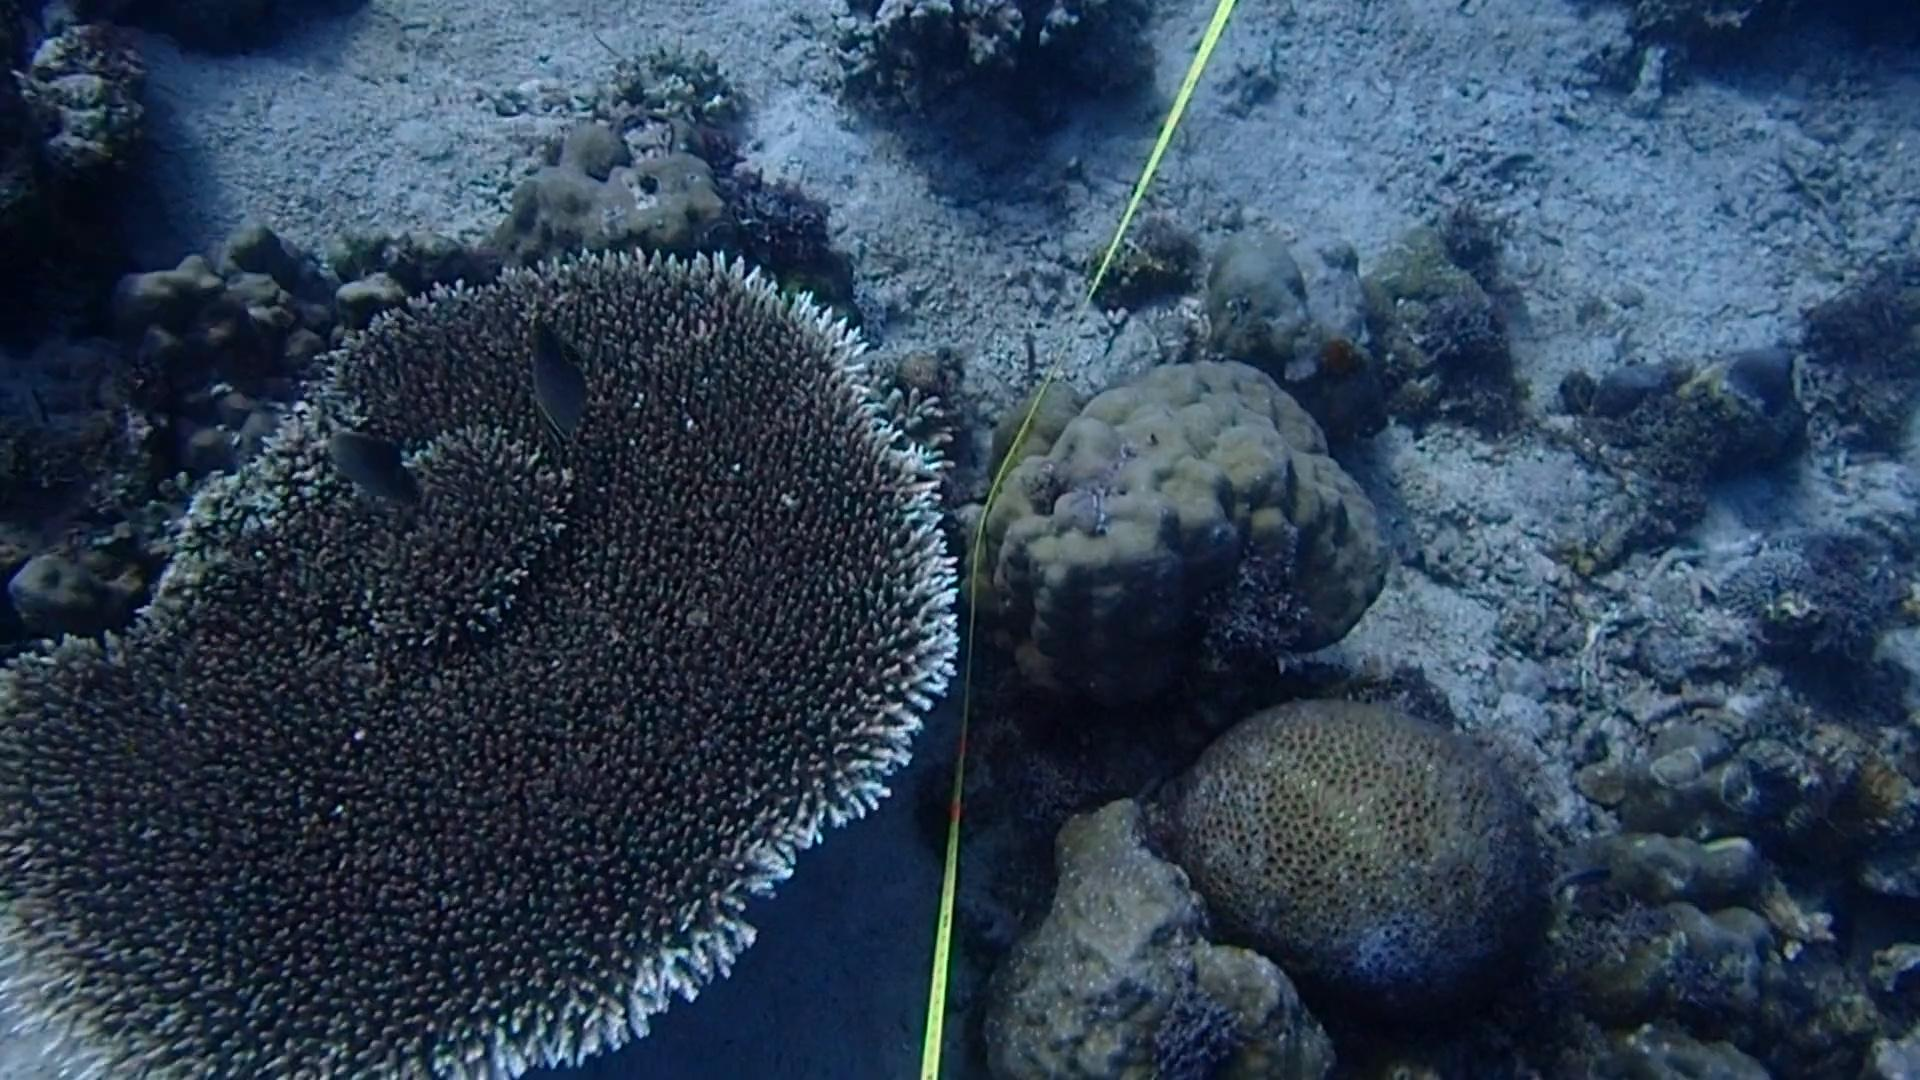Dark Blue Dory: (303, 417, 450, 526), (508, 313, 597, 444)
Light Fish: (1538, 839, 1621, 915)
